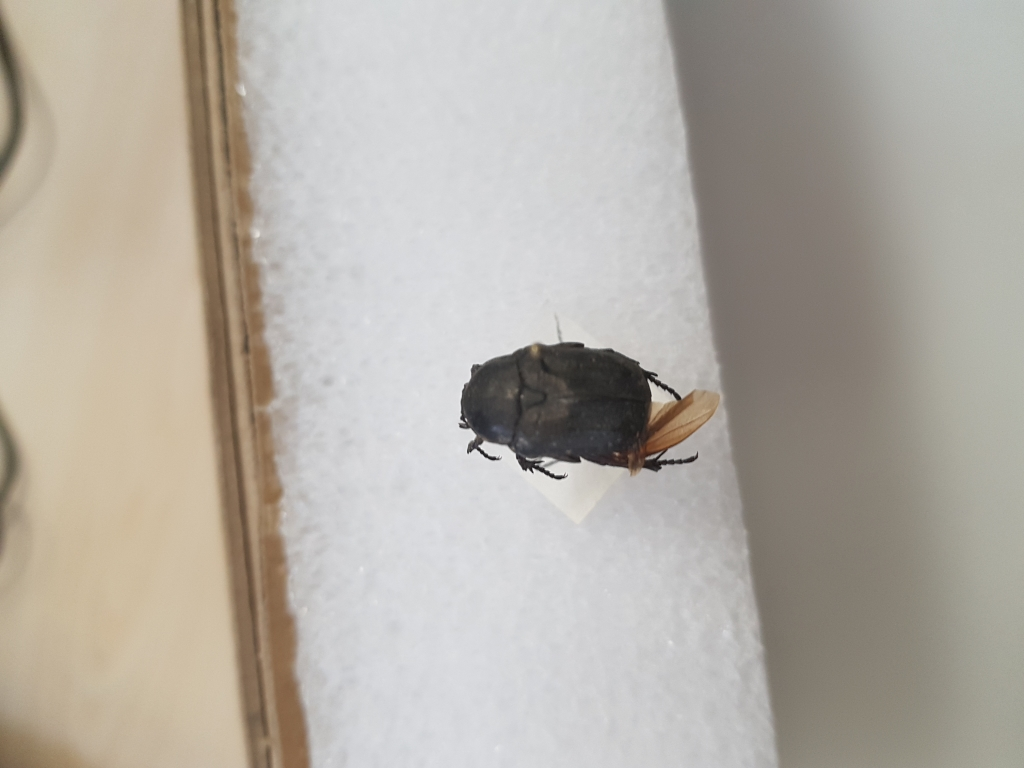Protaetia_asiatica: (446, 331, 723, 494)
